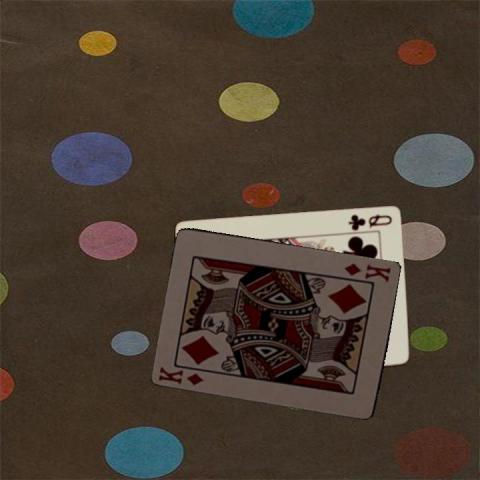Kd: (156, 363, 206, 387), (341, 260, 393, 283)
Qc: (346, 211, 394, 233)
